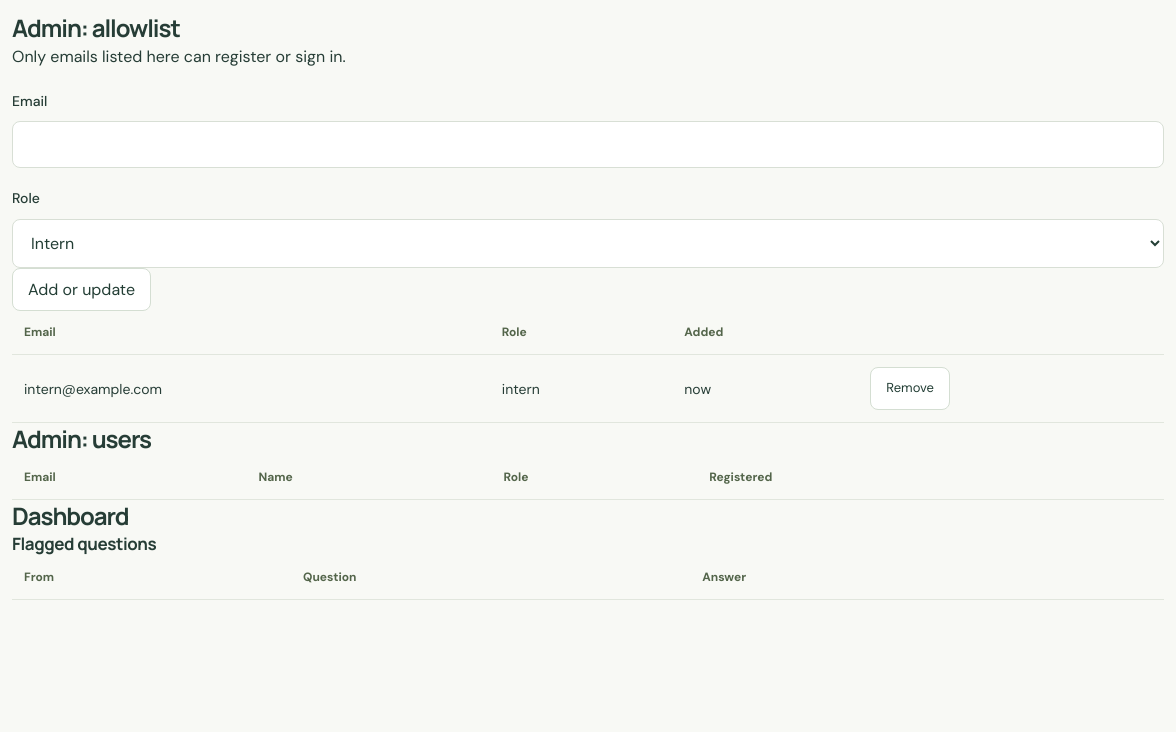
Test: AdminPanel › removes an allowlist entry after confirmation
Expected: the text "intern@example.com" is shown, [12, 355, 490, 423]
Click the button "Remove" at (910, 389), box [870, 367, 950, 410]
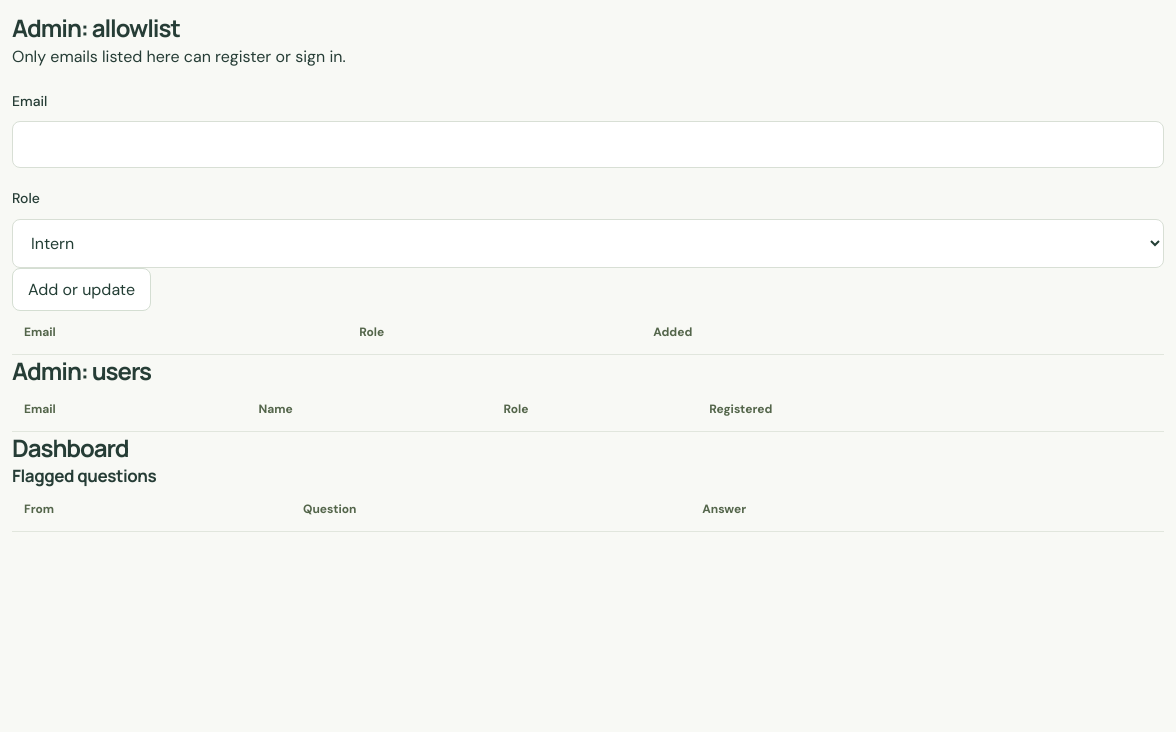
Expected: the text "intern@example.com" is gone
